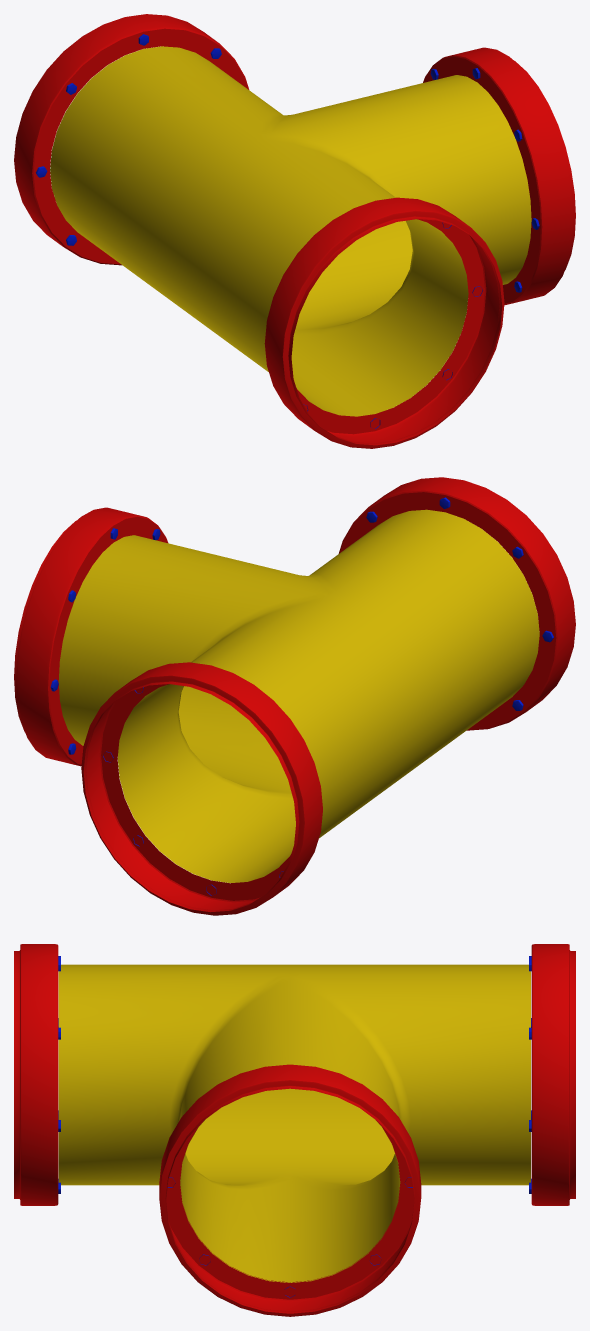
File: sub_Tpipe.fbx
3 renders of one model, top to bottom at view 1: azimuth 30°, elevation 25°; view 2: azimuth 150°, elevation 25°; view 3: azimuth 270°, elevation 25°, orthographic. The views are drawn at different scales.
Visible parts, largest first — view 1: sub_CurvePipe005; view 2: sub_CurvePipe005; view 3: sub_CurvePipe005.
Boxes of the visible parts, box(x1,y1,x2,y2) form: sub_CurvePipe005: box(14, 14, 575, 448); sub_CurvePipe005: box(14, 477, 575, 915); sub_CurvePipe005: box(14, 944, 575, 1316).
Bounding box in the file's own units: 82.94 × 50.56 × 108.
